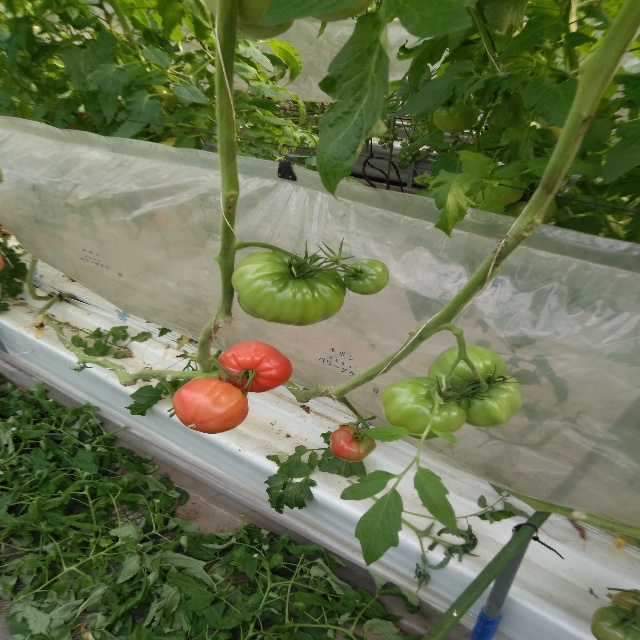b_fully_ripened: (173, 377, 249, 434), (217, 341, 293, 393)
b_green: (230, 250, 347, 327), (382, 376, 466, 440), (428, 345, 508, 394), (458, 376, 524, 427), (343, 259, 390, 295)
b_half_ripened: (330, 426, 376, 462)
